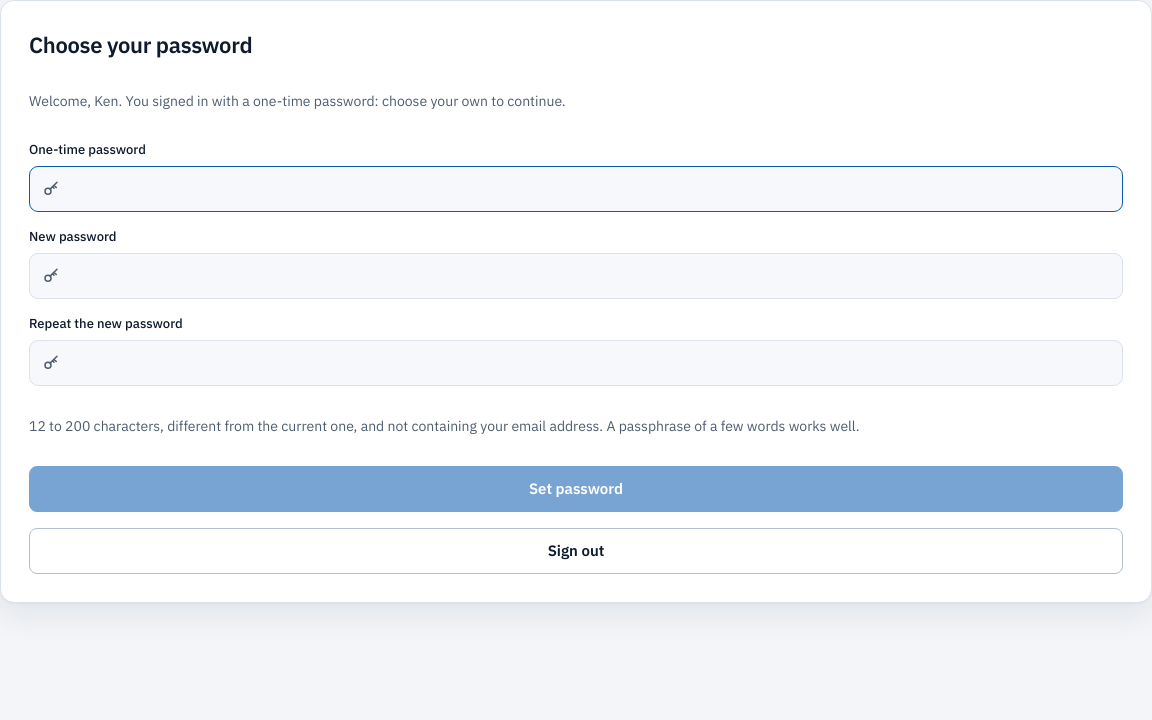
ChangePassword › shows the server refusal
In the password field labelled "One-time password": (591, 189) [60,167,1122,211], type "abcd-efgh-jkmn-pqrs"
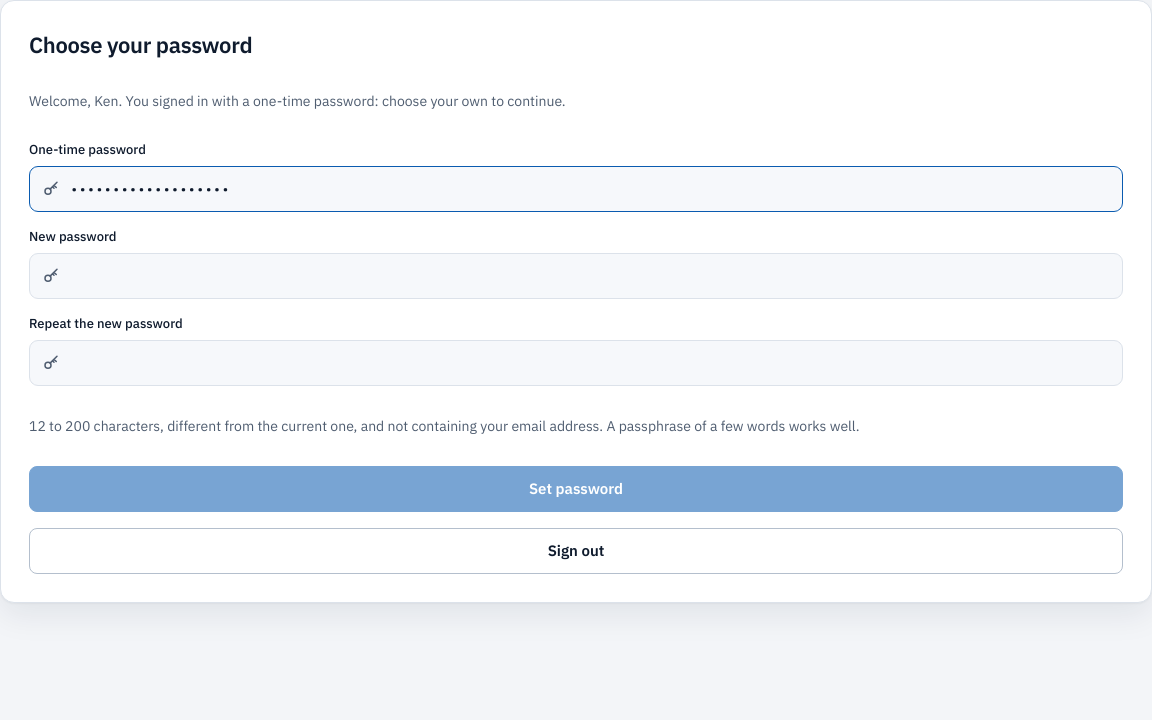
In the password field labelled "New password": (591, 276) [60,254,1122,298], type "ken-long-phrase-2026"
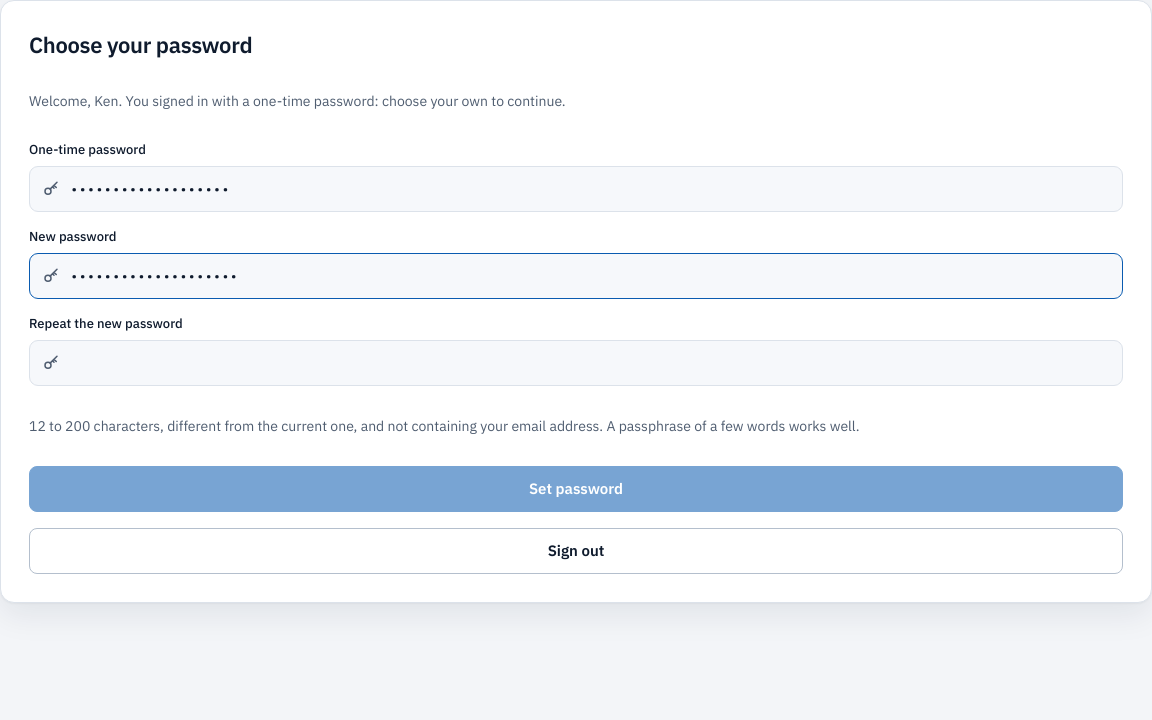
In the password field labelled "Repeat the new password": (591, 363) [60,341,1122,385], type "ken-long-phrase-2026"
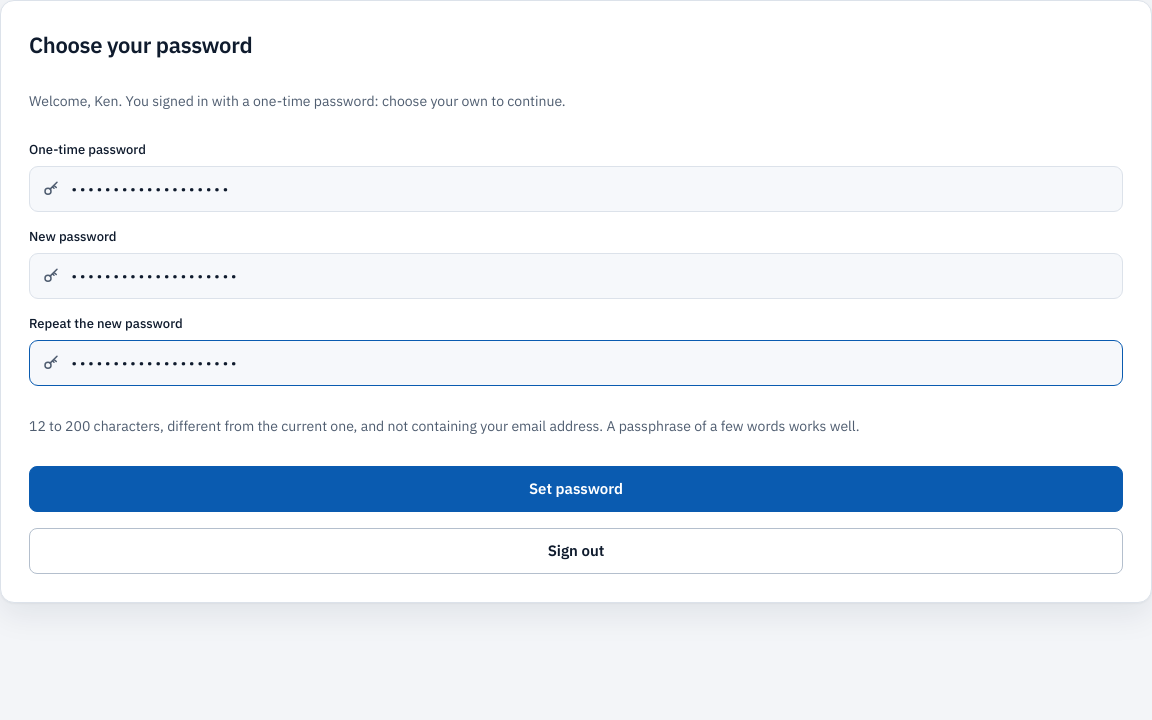
Click the button "Set password": (576, 489) [29,466,1123,512]
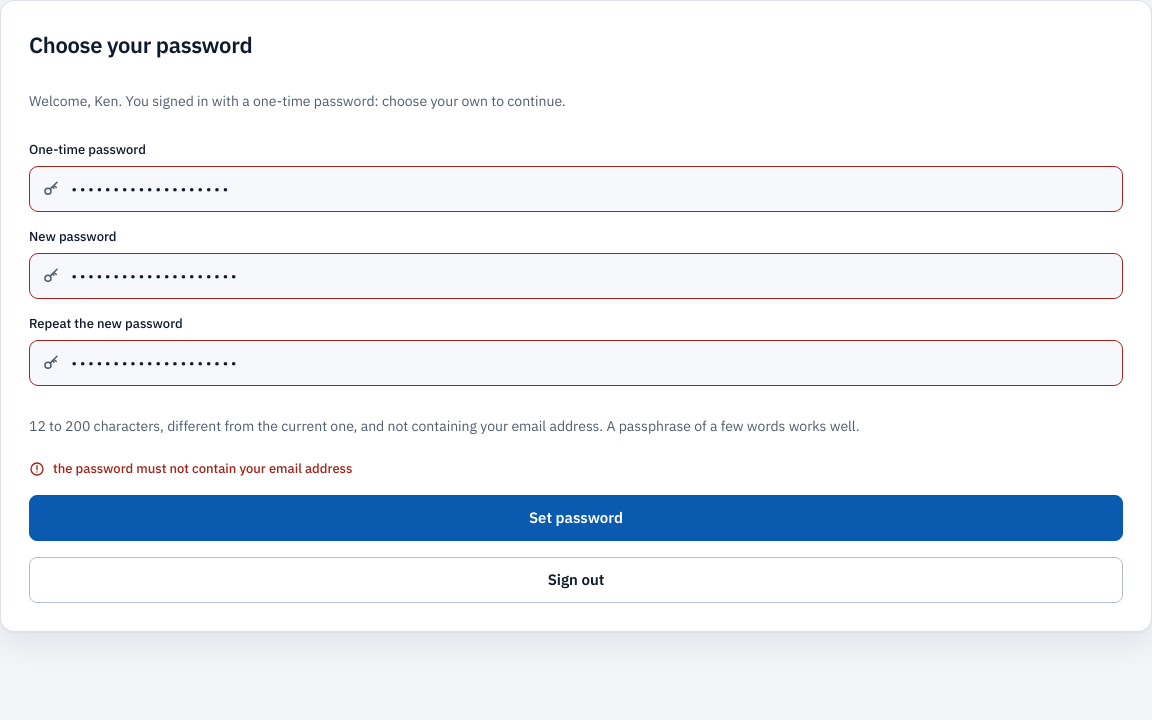
Now the message reads "the password must not contain your email address", box [53,460,352,477]
